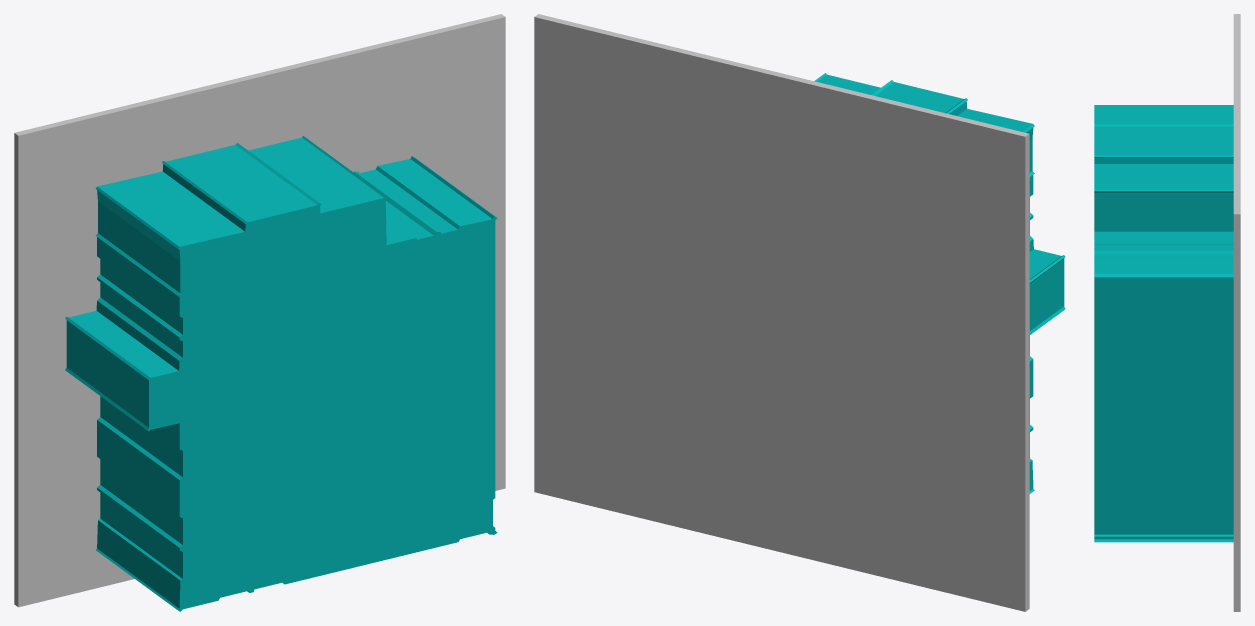
3 renders of one model, left to right at view 1: azimuth 30°, elevation 25°; view 2: azimuth 150°, elevation 25°; view 3: azimuth 270°, elevation 25°, orthographic. The views are drawn at different scales.
Parts seen in each view (by area): view 1: world; view 2: world; view 3: world.
Part boxes in pixels (x1,y1,x2,y2): world: (14, 14, 505, 611); world: (534, 14, 1065, 611); world: (1094, 14, 1240, 611).
Size of the model in its own units: 10.23 by 9.46 by 3.15.
